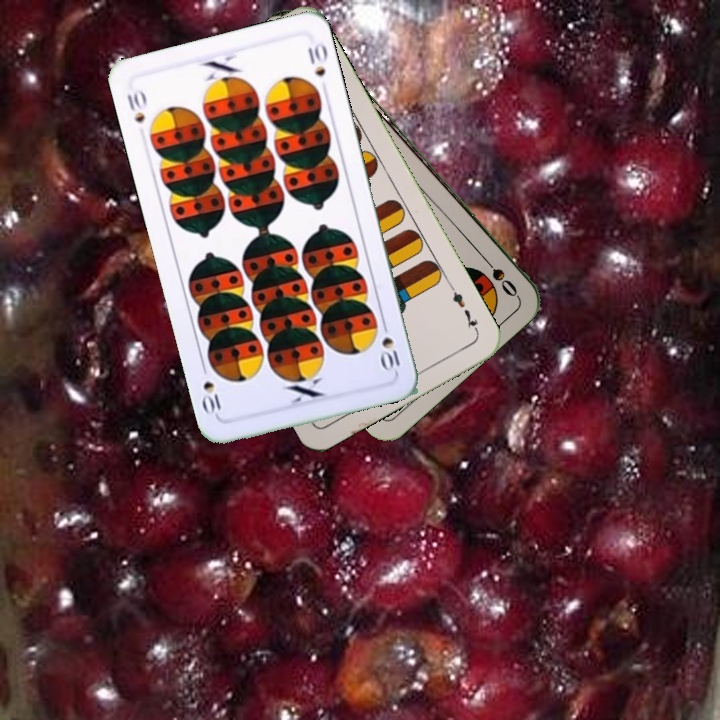E7: (447, 281, 482, 335)
S10: (377, 316, 403, 375), (122, 85, 150, 126)
SO: (476, 250, 521, 300)
